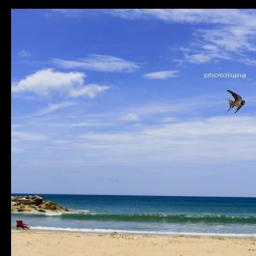Swallow: (223, 90, 246, 114)
